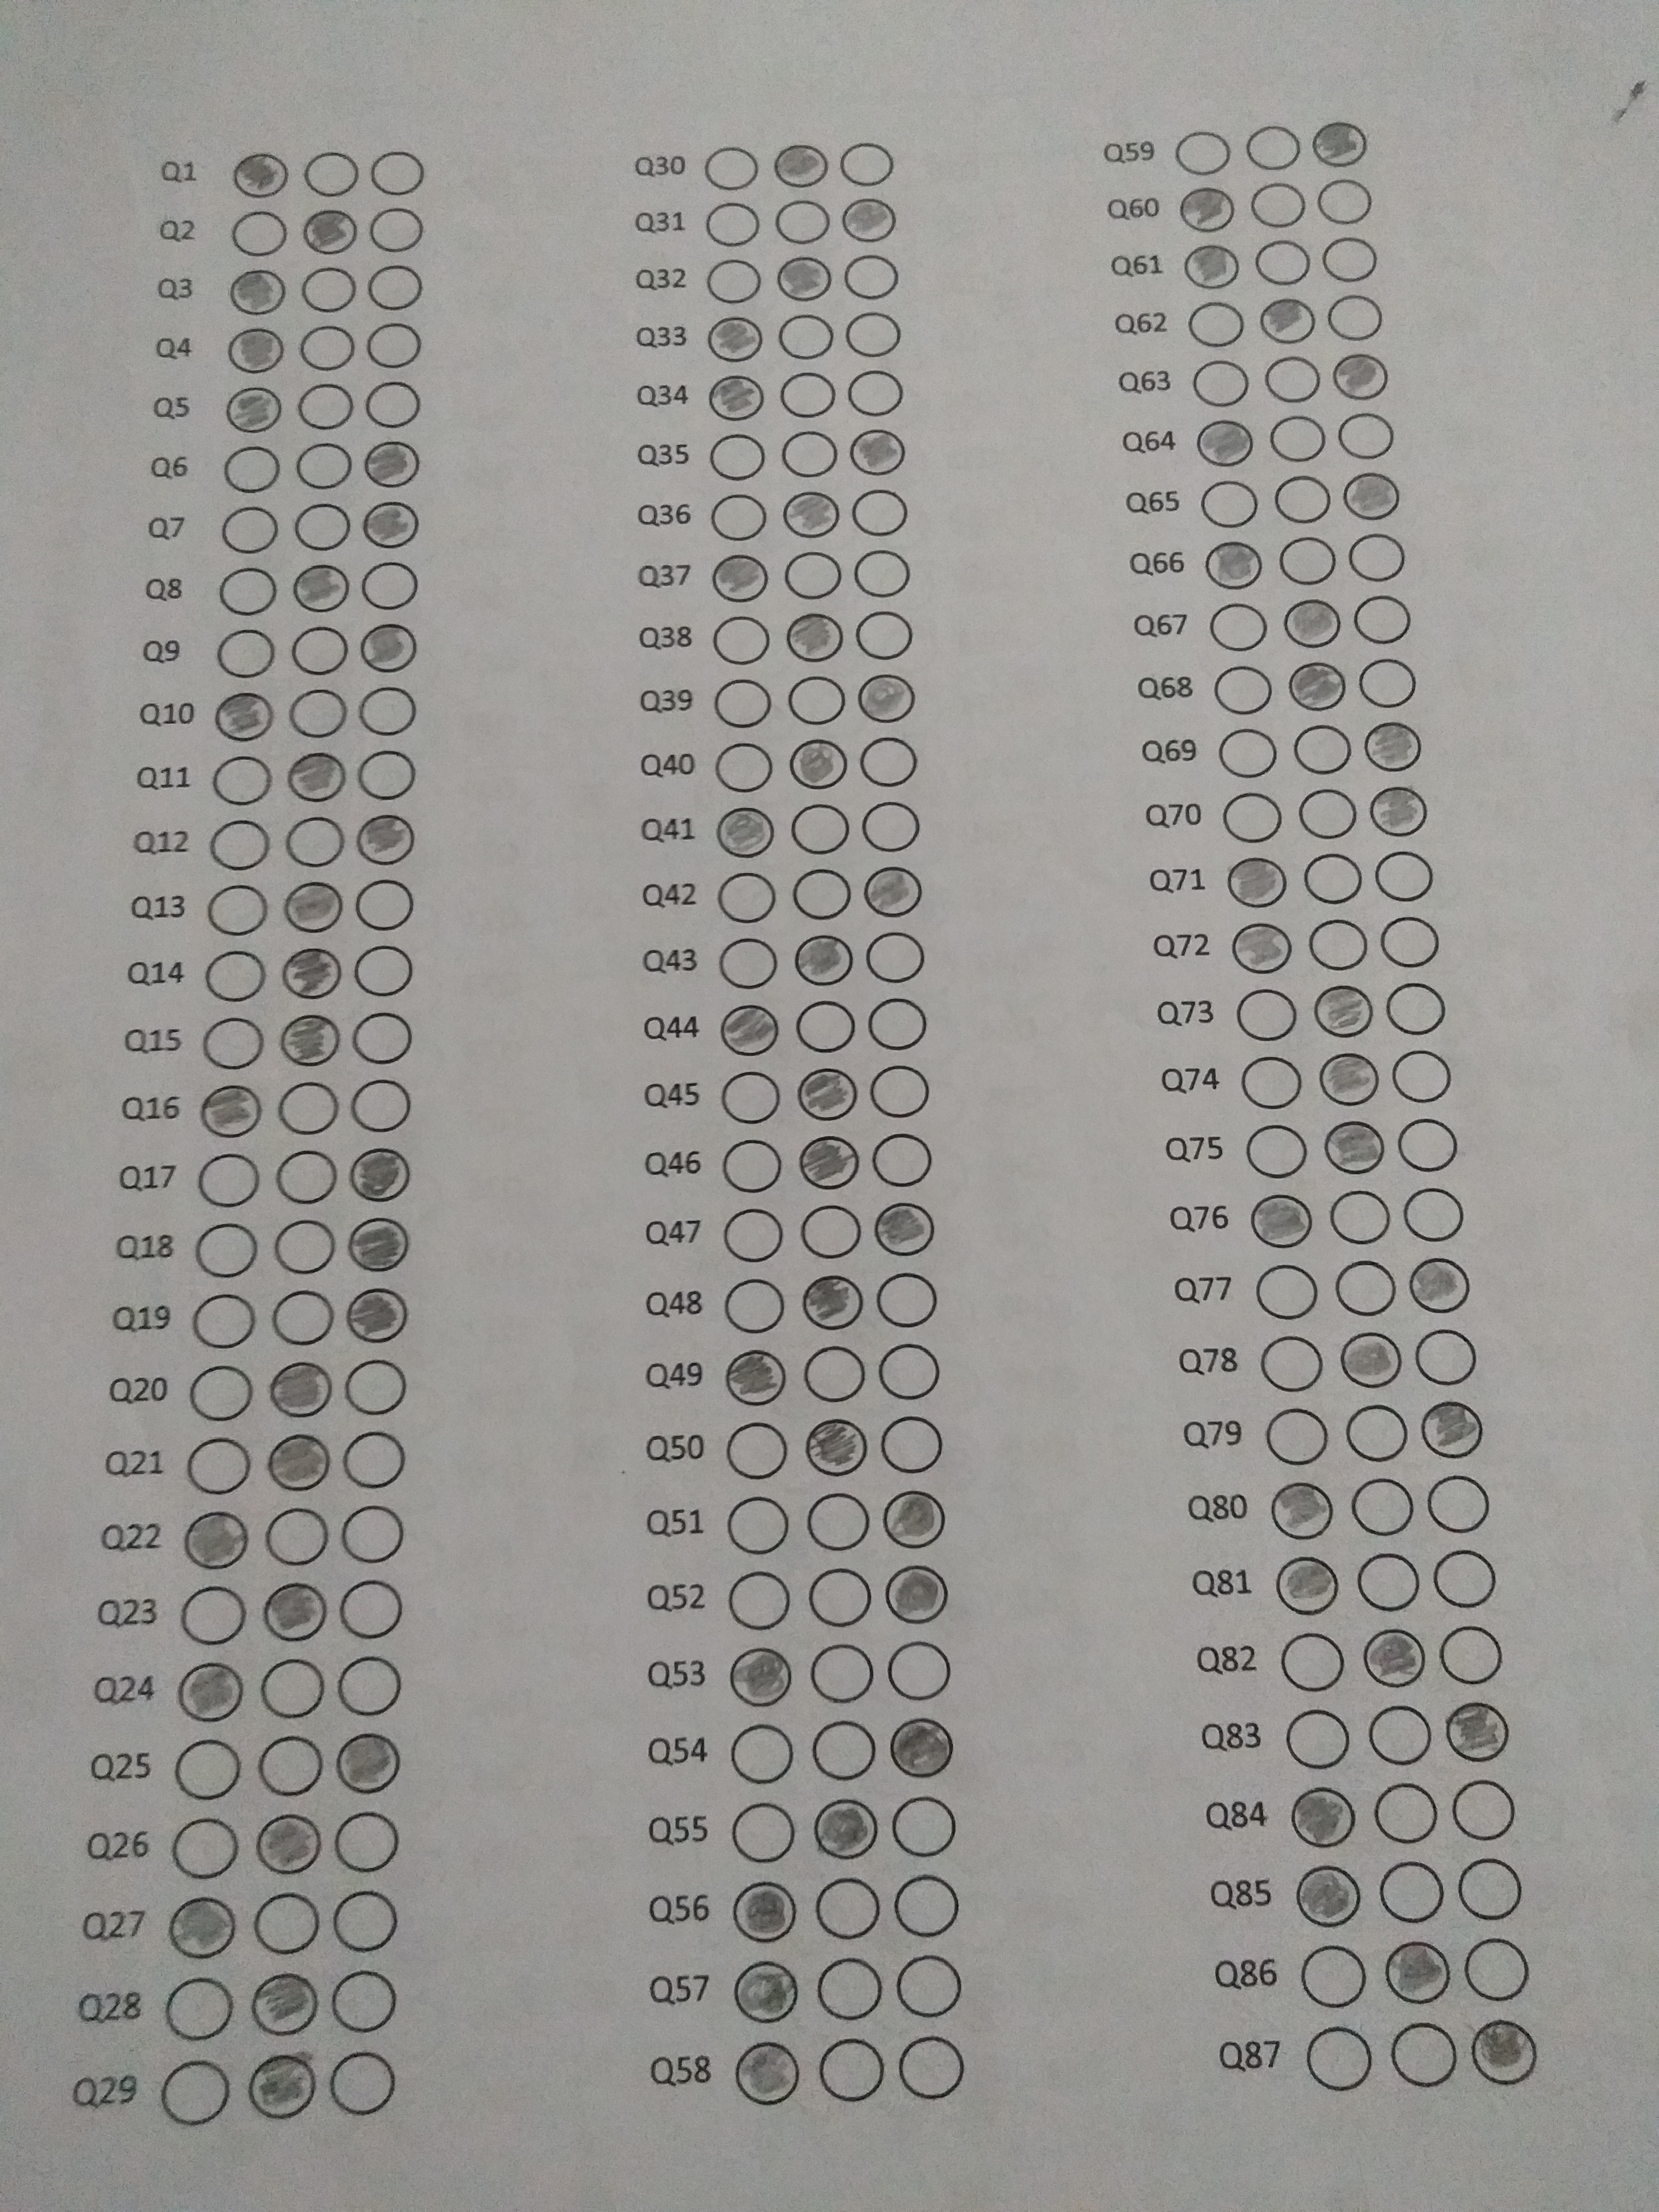not-c: (1307, 2024, 1373, 2092), (1455, 1857, 1523, 1923), (1392, 2024, 1460, 2088), (1380, 1862, 1445, 1925), (1216, 726, 1279, 780), (823, 2043, 885, 2097), (166, 2066, 228, 2120), (169, 1982, 232, 2036), (816, 1881, 878, 1935), (256, 1895, 319, 1949), (335, 1817, 397, 1871), (258, 1740, 321, 1794), (807, 1571, 870, 1625), (728, 1573, 791, 1627), (725, 1498, 788, 1552), (342, 1507, 404, 1561), (267, 1510, 329, 1564), (878, 1416, 941, 1470), (186, 1439, 249, 1493), (877, 1346, 939, 1400), (1290, 721, 1352, 775), (1358, 655, 1420, 709), (1272, 472, 1335, 526), (1335, 408, 1398, 462), (1267, 413, 1330, 467), (1190, 359, 1253, 413), (1323, 291, 1385, 345), (1373, 1785, 1436, 1839), (1464, 1944, 1527, 1998), (1286, 1712, 1349, 1766), (1434, 1552, 1497, 1606), (1425, 1477, 1488, 1531), (1265, 1409, 1328, 1463), (1260, 1338, 1323, 1392), (1401, 1188, 1464, 1242), (1328, 1190, 1391, 1244), (1246, 1125, 1309, 1179), (1239, 1055, 1302, 1109), (1384, 982, 1446, 1036), (1307, 916, 1370, 970), (193, 1294, 254, 1348), (901, 2040, 962, 2094), (887, 1644, 948, 1698), (819, 1963, 880, 2017), (335, 1893, 396, 1947), (178, 1742, 239, 1796), (342, 1581, 403, 1635), (1211, 664, 1272, 718), (1310, 178, 1371, 232), (1244, 179, 1305, 233), (1356, 1554, 1417, 1608), (1302, 1949, 1363, 2003), (1453, 1782, 1514, 1836), (1439, 1627, 1500, 1681), (1284, 1635, 1345, 1689), (1398, 1118, 1459, 1172), (896, 1961, 958, 2013), (333, 1975, 396, 2027), (896, 1881, 958, 1933), (890, 1803, 953, 1855), (176, 1822, 239, 1874), (730, 1728, 793, 1780), (261, 1663, 324, 1716), (338, 1660, 401, 1712), (183, 1590, 246, 1642), (807, 1494, 870, 1547), (802, 1346, 864, 1399), (345, 1362, 408, 1414), (190, 1367, 253, 1420), (877, 1273, 939, 1325), (1300, 853, 1363, 906), (1295, 791, 1358, 843), (1220, 792, 1283, 845), (1206, 597, 1269, 650), (1352, 590, 1415, 643), (1260, 354, 1323, 406), (1248, 239, 1310, 291), (1317, 233, 1380, 286), (1241, 125, 1303, 178), (1173, 129, 1236, 181), (1371, 1710, 1434, 1763), (1351, 1482, 1413, 1534), (1344, 1407, 1406, 1460), (1415, 1329, 1478, 1381), (1333, 1263, 1396, 1315), (1256, 1266, 1319, 1318), (1389, 1050, 1452, 1103), (1236, 989, 1298, 1042), (335, 2055, 396, 2107), (732, 1806, 793, 1858), (812, 1726, 873, 1778), (812, 1648, 873, 1700), (728, 1425, 789, 1477), (345, 1433, 406, 1486), (723, 1280, 784, 1332), (272, 1291, 333, 1343), (1347, 529, 1408, 582), (1276, 535, 1337, 587), (1197, 477, 1258, 529), (1185, 300, 1246, 352), (1378, 914, 1439, 967), (1371, 852, 1432, 904), (708, 434, 767, 482), (779, 371, 838, 420), (775, 315, 835, 364), (793, 871, 852, 920), (355, 881, 415, 930), (355, 751, 415, 799), (357, 686, 416, 735), (214, 629, 274, 678), (221, 505, 279, 554), (298, 383, 355, 432), (206, 951, 263, 1000), (716, 742, 774, 791), (213, 756, 270, 805), (216, 566, 275, 613), (291, 502, 350, 549), (781, 430, 840, 477), (295, 444, 354, 491), (362, 383, 422, 430), (296, 265, 355, 312), (842, 254, 901, 301), (702, 256, 762, 303), (775, 199, 835, 246), (704, 200, 763, 247), (838, 141, 897, 188), (702, 145, 762, 192), (232, 211, 291, 258), (802, 1207, 861, 1254), (721, 1143, 781, 1190), (200, 1157, 260, 1204), (870, 1068, 929, 1115), (721, 1073, 781, 1120), (352, 1083, 411, 1130), (279, 1085, 338, 1132), (795, 1003, 854, 1050), (206, 1019, 265, 1066), (866, 934, 925, 981), (352, 948, 411, 995), (714, 874, 774, 921), (791, 805, 850, 852), (284, 817, 343, 864), (211, 820, 270, 867), (857, 740, 917, 787), (786, 678, 845, 725), (713, 681, 772, 728), (854, 611, 913, 658), (854, 552, 913, 599), (784, 552, 843, 599), (303, 152, 361, 199), (359, 563, 416, 610), (852, 491, 910, 538), (711, 495, 769, 542), (223, 446, 281, 493), (847, 369, 904, 416), (845, 312, 903, 359), (298, 324, 355, 371), (366, 322, 423, 369), (366, 260, 423, 307), (366, 206, 423, 253), (371, 152, 429, 199), (725, 1212, 782, 1259), (277, 1223, 335, 1270), (197, 1226, 254, 1273), (873, 1137, 931, 1184), (279, 1153, 336, 1200), (868, 1000, 925, 1047), (354, 1012, 411, 1059), (718, 939, 775, 986), (209, 888, 267, 935), (863, 803, 920, 850), (291, 690, 349, 737), (713, 617, 770, 664), (291, 627, 349, 674)
taken-c: (247, 2050, 321, 2123), (1467, 2017, 1539, 2088), (166, 1895, 240, 1961), (247, 1970, 319, 2038), (1293, 1862, 1363, 1930), (887, 1716, 958, 1782), (174, 1660, 247, 1724), (1443, 1700, 1513, 1766), (1288, 1785, 1359, 1850), (336, 1728, 404, 1794), (734, 2040, 802, 2106), (263, 1430, 333, 1494), (254, 1813, 324, 1878), (730, 1961, 800, 2026), (728, 1881, 800, 1944), (812, 1796, 878, 1862), (1384, 1940, 1452, 2005), (1361, 1625, 1429, 1689), (882, 1564, 951, 1627), (179, 1510, 251, 1571), (805, 1414, 871, 1479), (261, 1580, 328, 1644), (1277, 1555, 1345, 1618), (1267, 1480, 1335, 1543), (1422, 1397, 1486, 1461), (727, 1646, 793, 1709), (1405, 1254, 1473, 1315), (197, 1082, 267, 1141), (721, 1346, 788, 1407), (880, 1489, 948, 1548), (345, 1285, 413, 1345), (1249, 1191, 1316, 1251), (267, 1360, 335, 1418), (873, 1198, 938, 1258), (796, 1132, 863, 1190), (1338, 1331, 1405, 1388), (1316, 1050, 1382, 1108), (349, 1148, 413, 1205), (1310, 982, 1375, 1040), (282, 878, 345, 935), (784, 608, 847, 665), (796, 1066, 859, 1123), (802, 1273, 864, 1331), (1366, 782, 1429, 840), (861, 864, 925, 920), (277, 1014, 342, 1069), (347, 1217, 411, 1273), (1227, 855, 1291, 911), (1286, 658, 1351, 714), (714, 803, 775, 860), (286, 749, 349, 805), (354, 812, 416, 867), (791, 934, 856, 988), (1361, 721, 1425, 775), (1229, 921, 1295, 974), (789, 737, 850, 792), (718, 1001, 779, 1057), (281, 946, 343, 1000), (708, 550, 770, 604), (1279, 596, 1344, 648), (1201, 540, 1265, 592), (359, 620, 418, 676), (214, 690, 275, 744), (856, 672, 917, 726), (1192, 416, 1253, 470), (1323, 1122, 1385, 1174), (300, 206, 361, 258), (293, 563, 354, 615), (1340, 472, 1401, 524), (774, 139, 833, 192), (775, 254, 835, 307), (704, 312, 763, 364), (225, 326, 286, 376), (223, 383, 284, 434), (361, 439, 422, 489), (849, 427, 910, 477), (781, 489, 842, 540), (1331, 352, 1392, 402), (232, 148, 289, 200), (228, 266, 288, 317), (361, 500, 422, 549), (1256, 298, 1317, 347), (708, 371, 765, 421), (1178, 185, 1236, 235), (1180, 244, 1241, 291), (1309, 122, 1370, 169), (840, 197, 899, 244)
